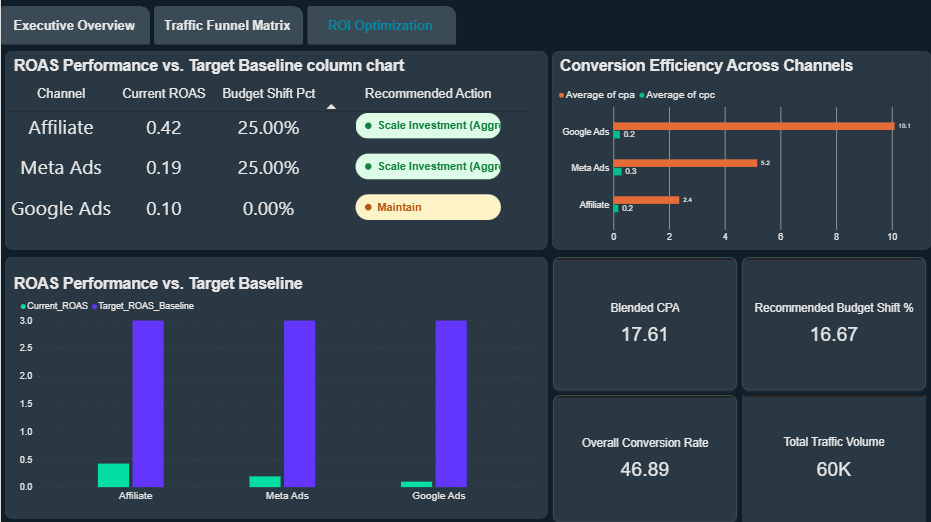

The dashboard page shown, as its layout file describes it:
{"tool":"powerbi","page":{"name":"ROI Optimization","canvas":[1920,1080],"ordinal":2},"visuals":[{"type":"textbox","box":[1137.5,107.5,782.5,410],"z":0},{"type":"textbox","box":[7.5,107.5,1120,410],"z":1000},{"type":"textbox","box":[7.5,532.5,1120,540],"z":2000},{"type":"tableEx","title":"ROAS Performance vs. Target Baseline column chart","fields":{"Values":["bi_page3_budget_optimization.channel","_Measures_Hub.Page3_Current_ROAS","_Measures_Hub.Page3_Budget_Shift_Pct","_Measures_Hub.Recommended Action"]},"box":[0,167.5,1120,350],"z":3000},{"type":"clusteredColumnChart","title":"ROAS Performance vs. Target Baseline","fields":{"Category":["bi_page3_budget_optimization.channel"],"Y":["_Measures_Hub.Page3_Current_ROAS","_Measures_Hub.Target_ROAS_Baseline"]},"box":[27.5,605,1092.5,447.5],"z":4000},{"type":"textbox","box":[27.5,120,812.5,70],"z":5000},{"type":"pageNavigator","box":[0,15,942.5,80],"z":6000},{"type":"textbox","box":[27.5,570,812.5,70],"z":7000},{"type":"clusteredBarChart","fields":{"Category":["summary_efficiency_metrics.channel"],"Y":["Avg(summary_efficiency_metrics.cpa)","Avg(summary_efficiency_metrics.cpc)"]},"box":[1137.5,167.5,782.5,350],"z":8000},{"type":"textbox","box":[1155,120,652.5,52.5],"z":10001},{"type":"cardVisual","title":"Blended CPA","fields":{"Data":["Sum(summary_efficiency_metrics.cpa)"]},"box":[1138.9,533.3,380,275],"z":10002},{"type":"cardVisual","title":"Overall Conversion Rate","fields":{"Data":["_Measures_Hub.Overall Conversion Rate"]},"box":[1140,817.5,380,263],"z":10003},{"type":"cardVisual","title":"Total Traffic Volume","fields":{"Data":["Sum(marketing_spend_logs.clicks)"]},"box":[1530,817.5,380,262.5],"z":10004},{"type":"cardVisual","title":"Recommended Budget Shift %","fields":{"Data":["_Measures_Hub.Avg Budget Shift"]},"box":[1530,532.5,380,275],"z":10005}]}

Visuals, with their boxes in screenshot pixels (x1, y1, x2, y2), scaled from the page's 1920x1080 canvas onto the 931x522 screenshot:
textbox: (552, 52, 930, 250)
textbox: (4, 52, 547, 250)
textbox: (4, 257, 547, 518)
"ROAS Performance vs. Target Baseline column chart" tableEx: (0, 81, 543, 250)
"ROAS Performance vs. Target Baseline" clusteredColumnChart: (13, 292, 543, 509)
textbox: (13, 58, 407, 92)
pageNavigator: (0, 7, 457, 46)
textbox: (13, 276, 407, 309)
clusteredBarChart - summary_efficiency_metrics.channel x Avg(summary_efficiency_metrics.cpa): (552, 81, 930, 250)
textbox: (560, 58, 876, 83)
"Blended CPA" cardVisual: (552, 258, 737, 391)
"Overall Conversion Rate" cardVisual: (553, 395, 737, 521)
"Total Traffic Volume" cardVisual: (742, 395, 926, 521)
"Recommended Budget Shift %" cardVisual: (742, 257, 926, 390)
